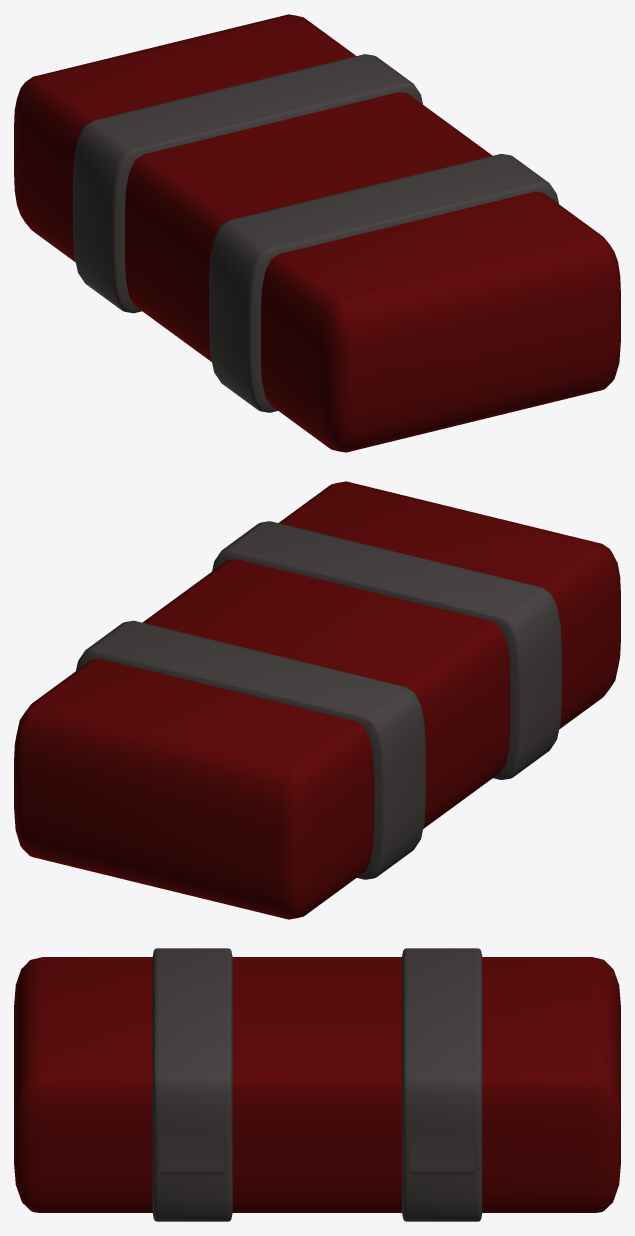
Rendered from Health Pickup (small).FBX.
3 renders of one model, top to bottom at view 1: azimuth 30°, elevation 25°; view 2: azimuth 150°, elevation 25°; view 3: azimuth 270°, elevation 25°, orthographic. The views are drawn at different scales.
Parts seen in each view (by area): view 1: Box001; view 2: Box001; view 3: Box001.
Part boxes in pixels (x1,y1,x2,y2): Box001: (14, 14, 620, 452); Box001: (14, 481, 620, 919); Box001: (14, 948, 620, 1221).
Size of the model in its own units: 5.32 by 2.62 by 9.6.
